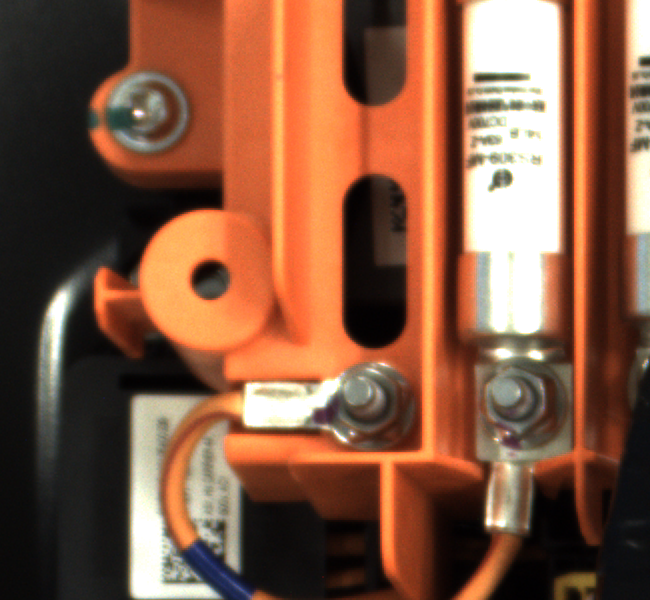screw_m: (92, 61, 210, 160)
screw_s: (319, 362, 422, 445), (476, 365, 560, 449)
